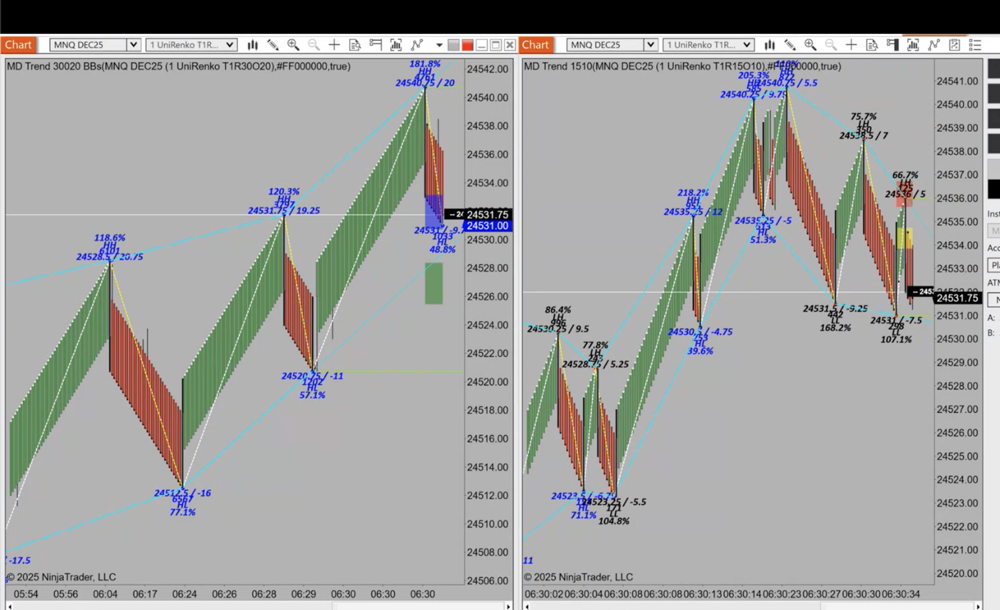HH: (838, 184, 858, 201), (658, 77, 679, 93), (388, 63, 409, 78), (72, 239, 92, 252), (597, 212, 617, 225), (693, 65, 712, 77), (246, 193, 268, 203)
HL: (276, 381, 297, 396), (146, 498, 165, 514), (433, 282, 453, 296), (604, 373, 626, 385), (669, 244, 686, 258)
LH: (906, 239, 929, 254), (810, 192, 830, 208), (769, 125, 793, 137)
LL: (740, 345, 759, 359), (824, 364, 840, 380), (884, 449, 903, 462), (803, 359, 821, 372)
candle: (747, 229, 754, 343), (775, 145, 782, 259), (817, 213, 824, 326), (675, 128, 682, 237), (611, 253, 618, 358), (808, 239, 814, 353), (698, 86, 704, 199), (829, 245, 835, 354), (890, 327, 896, 434), (395, 88, 400, 201), (604, 233, 609, 346), (666, 99, 671, 212), (282, 296, 289, 374), (846, 209, 851, 313), (254, 214, 258, 331), (152, 377, 156, 485), (80, 260, 83, 380)
